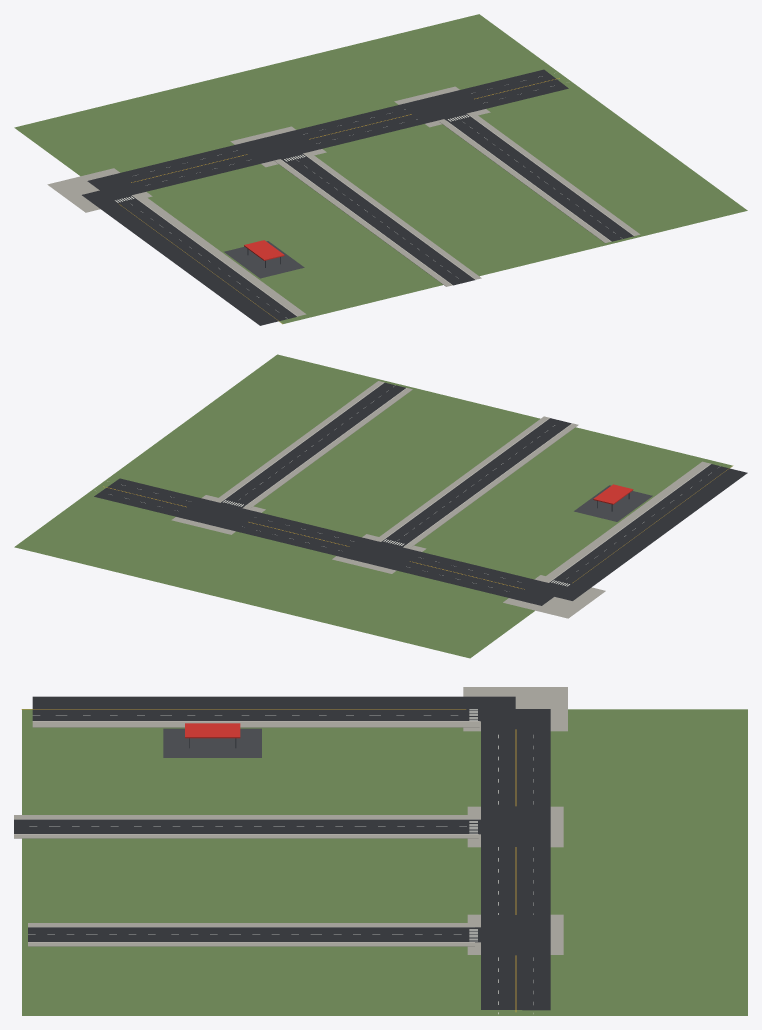
The model's file is Ground_4_7.fbx.
3 renders of one model, top to bottom at view 1: azimuth 30°, elevation 25°; view 2: azimuth 150°, elevation 25°; view 3: azimuth 270°, elevation 25°, orthographic. The views are drawn at different scales.
Parts seen in each view (by area): view 1: Ground_4_7; view 2: Ground_4_7; view 3: Ground_4_7.
Boxes of the visible parts, <box> form: Ground_4_7: <box>14,14,747,325</box>; Ground_4_7: <box>14,354,747,658</box>; Ground_4_7: <box>14,687,747,1015</box>.
Bounding box in the file's own units: 268 × 5.1 × 253.
